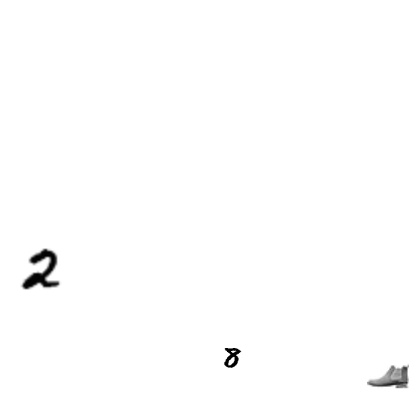2: (13, 241, 69, 297)
8: (218, 343, 246, 371)
Ankle_boot: (367, 355, 409, 397)
